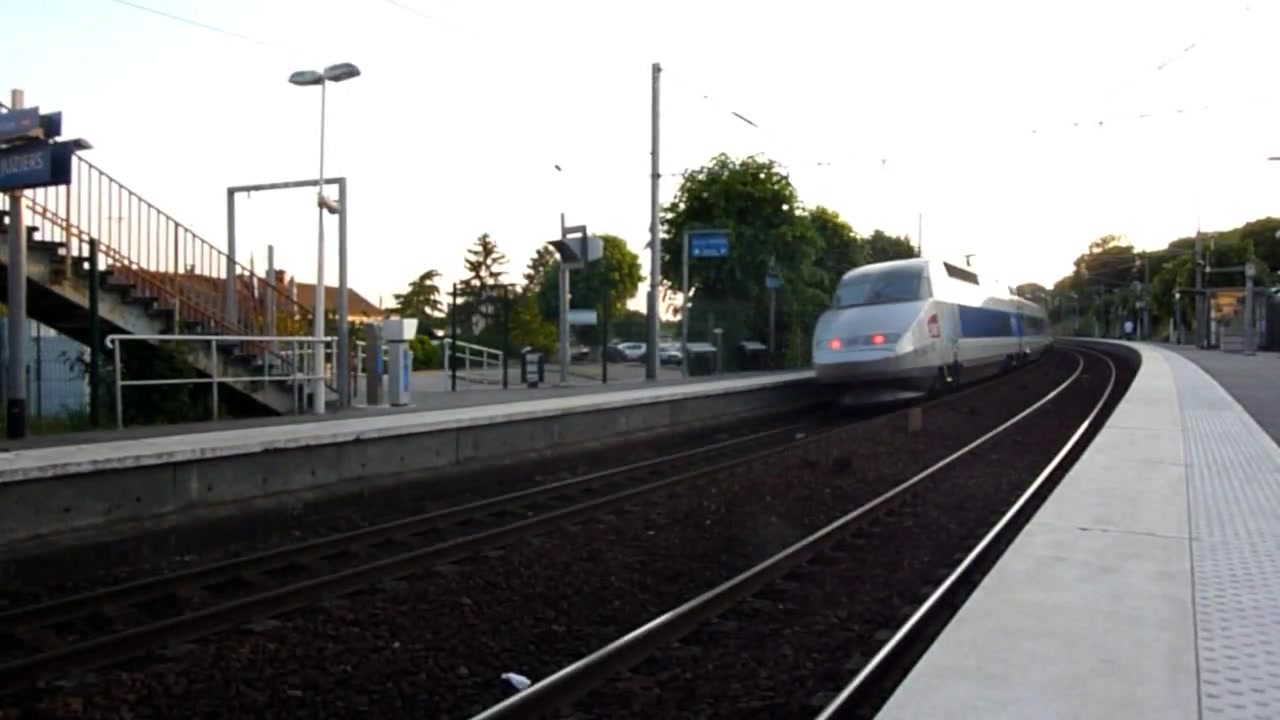train: (805, 261, 1059, 392)
